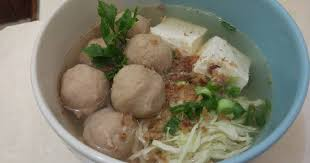bakso: (33, 13, 196, 161)
